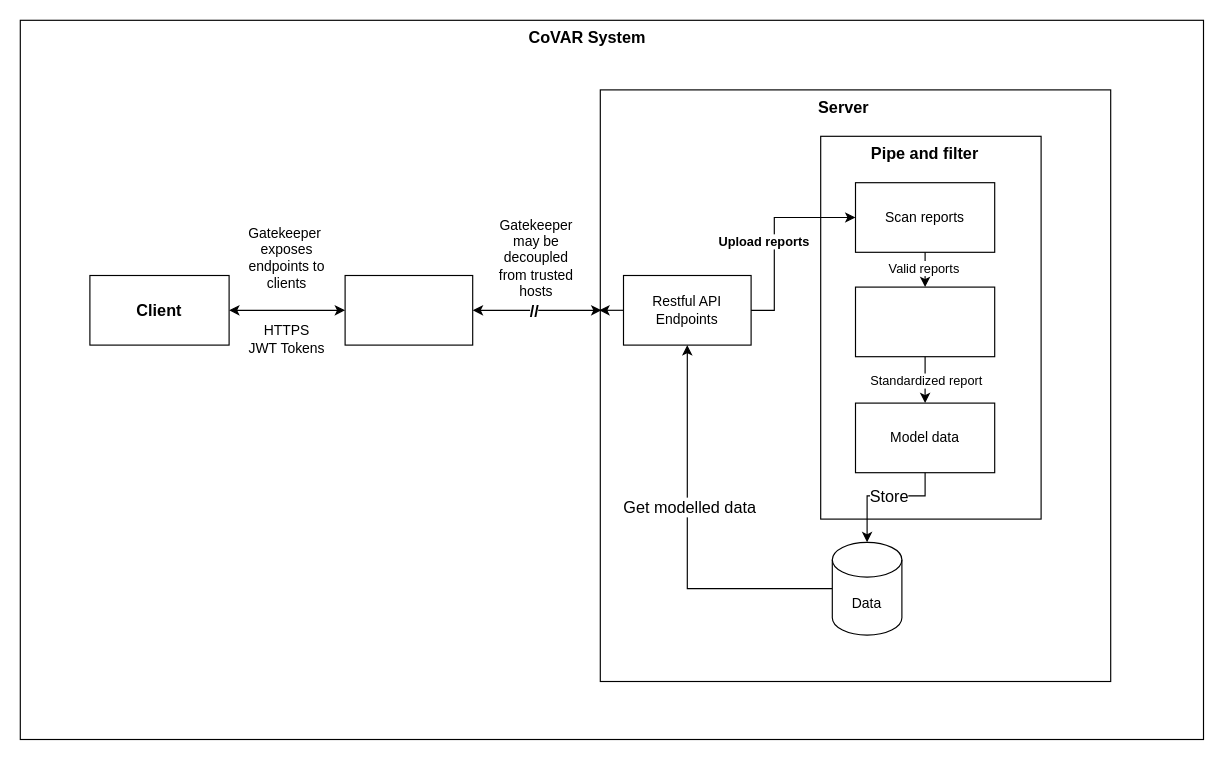
Image size: 1224x760. Some labels were removed from this diagram. Each missing label, with the centre of its shape:
Gatekeeper: the point at 408,309
Standardize: the point at 924,321
